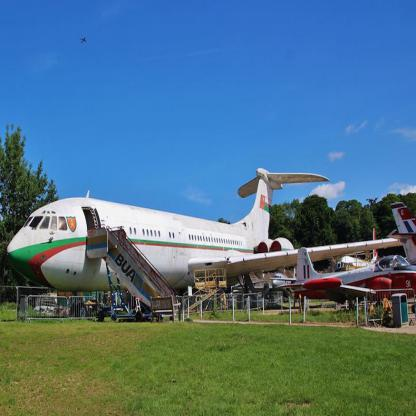CIV_Plane: (6, 164, 400, 314)
